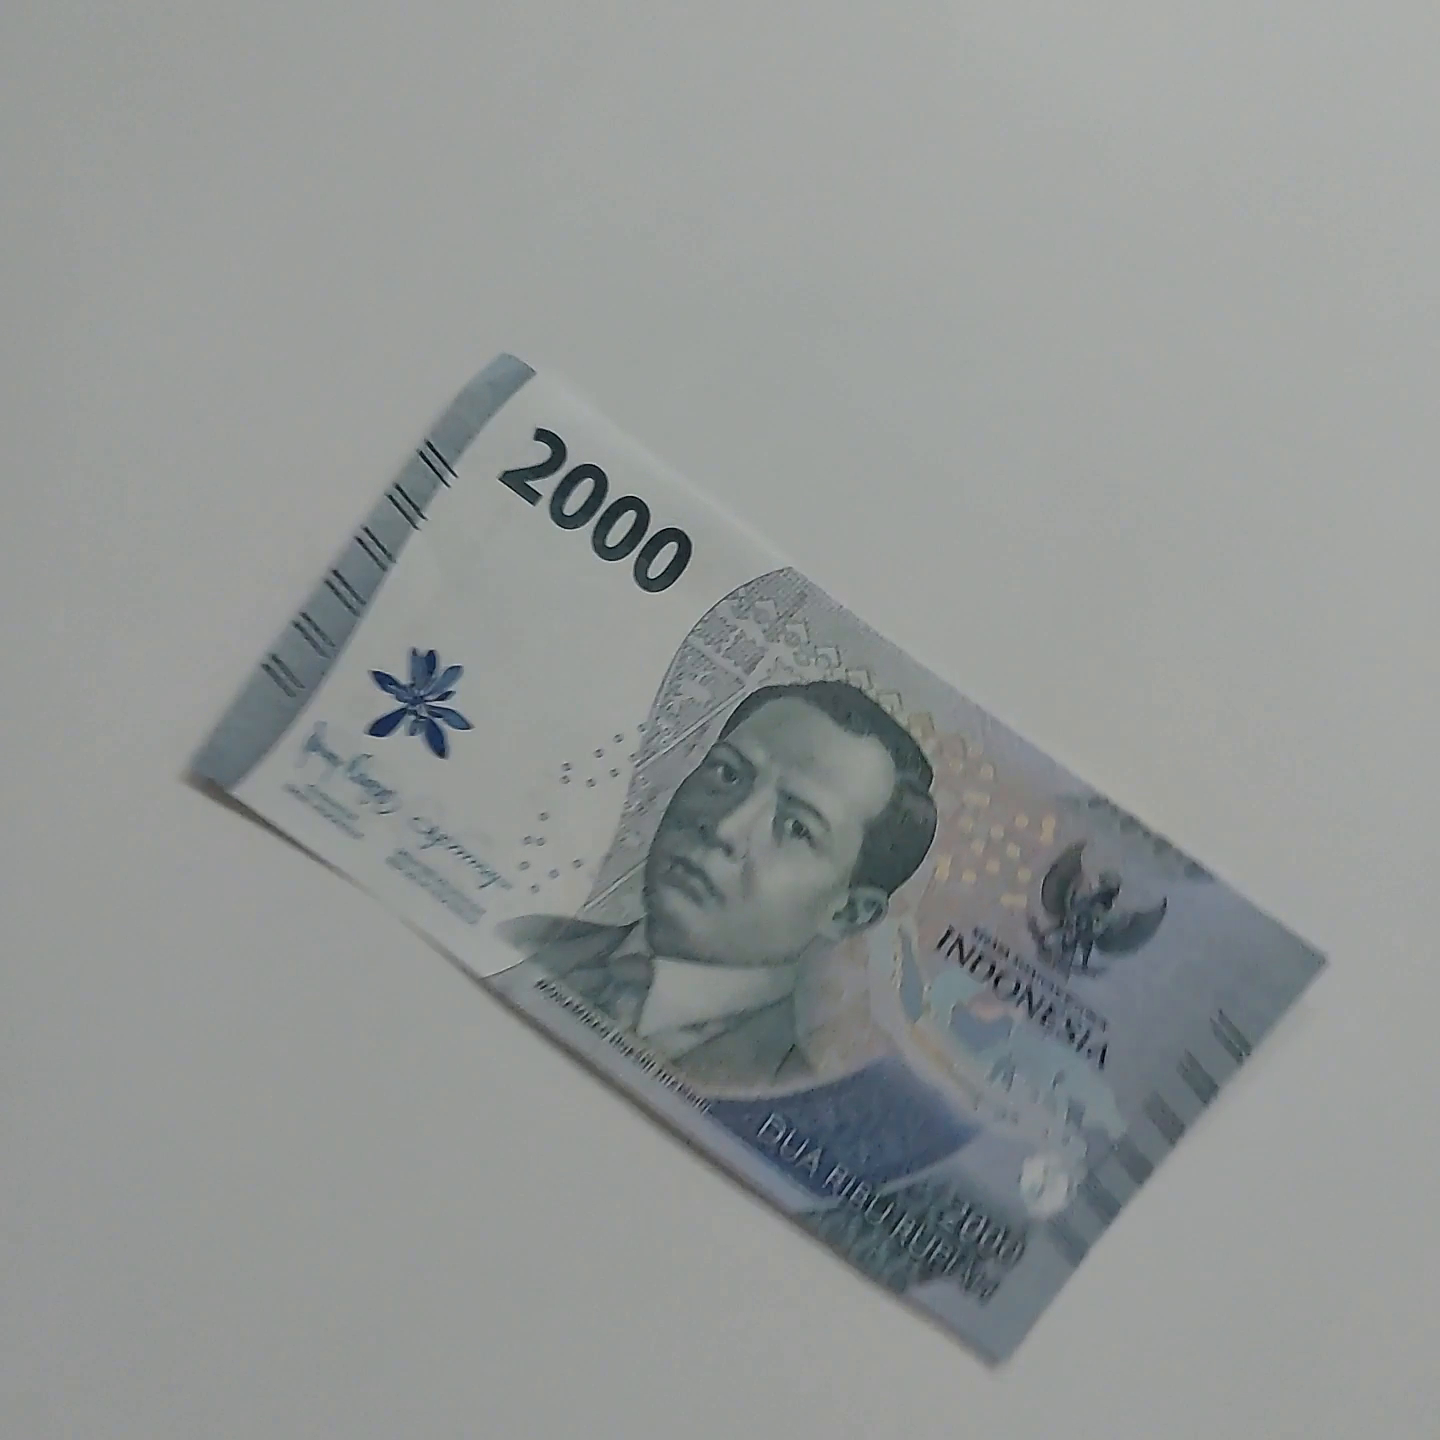2k: (464, 310, 1440, 914)
